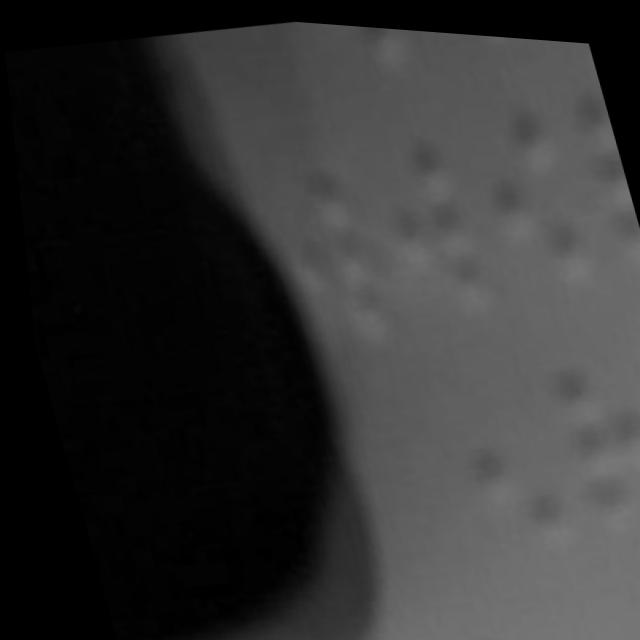braiile: (353, 114, 496, 331), (462, 89, 605, 303), (258, 150, 402, 357), (432, 365, 566, 558), (535, 348, 640, 537), (569, 88, 640, 269), (610, 562, 640, 636)
